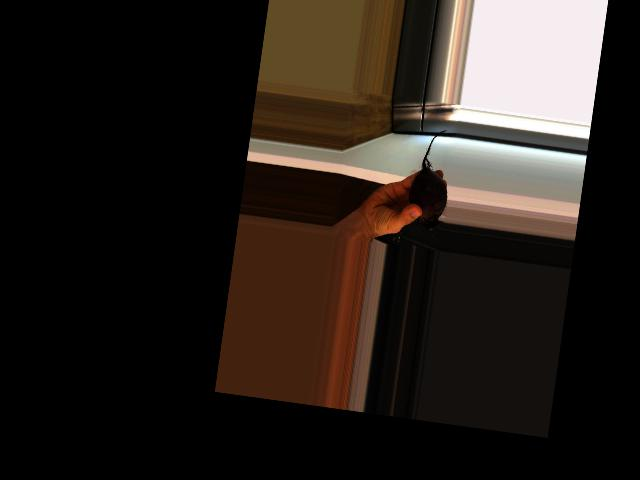beet: (404, 126, 456, 235)
